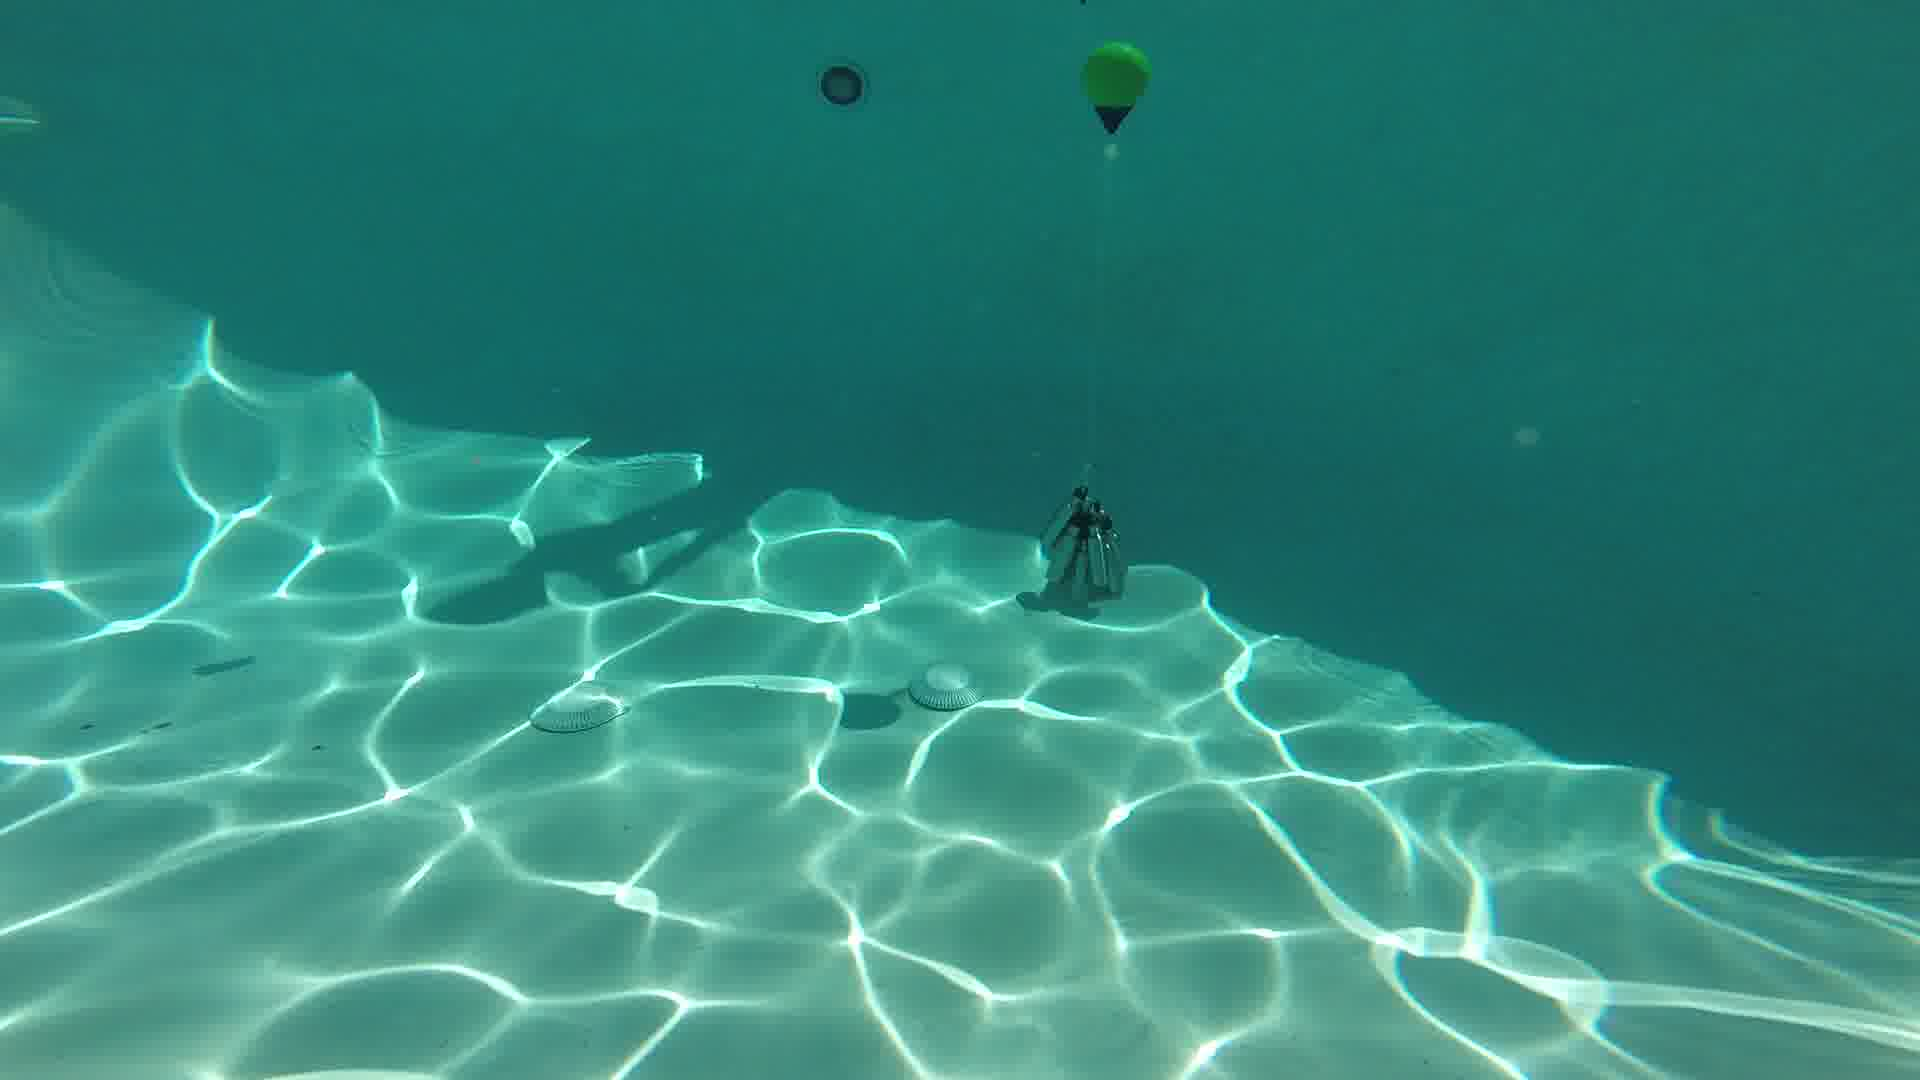yellow_buoy: (1081, 40, 1151, 160)
